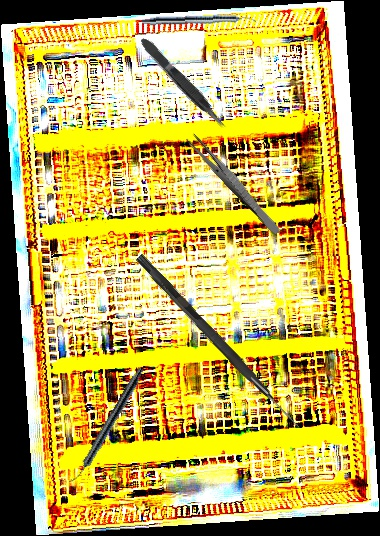Dressing Forceps: (184, 131, 285, 237)
Handpiece: (68, 364, 146, 488), (141, 13, 257, 28)
Hook Surgical: (133, 253, 305, 431)
Tissue Forceps: (136, 32, 231, 135)
